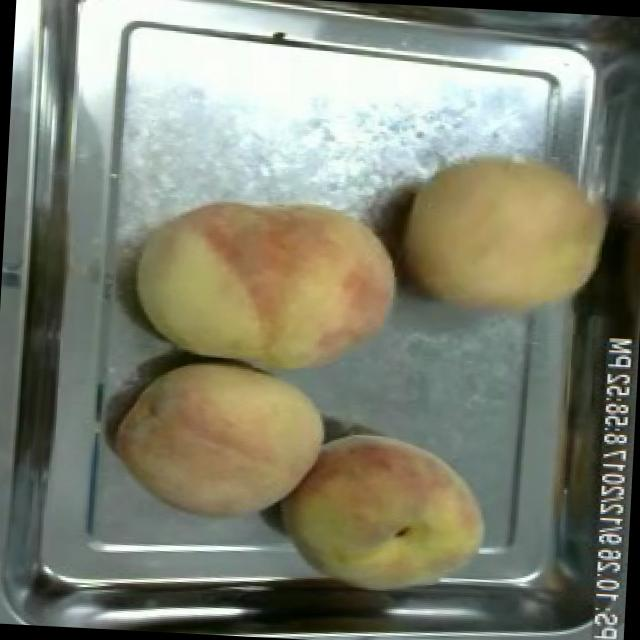Fruit: (124, 182, 408, 384), (266, 418, 500, 612), (392, 136, 622, 331), (103, 345, 338, 533)
